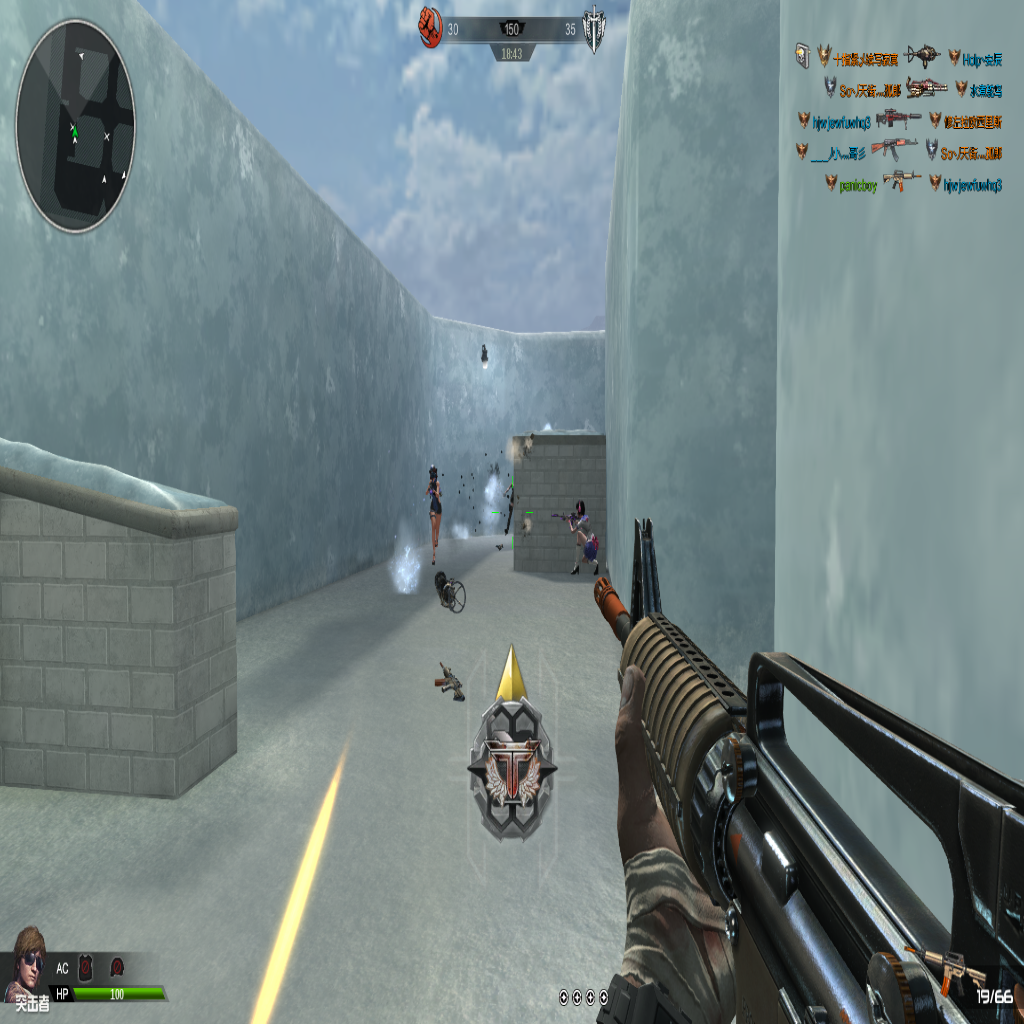ct: (423, 460, 443, 559)
